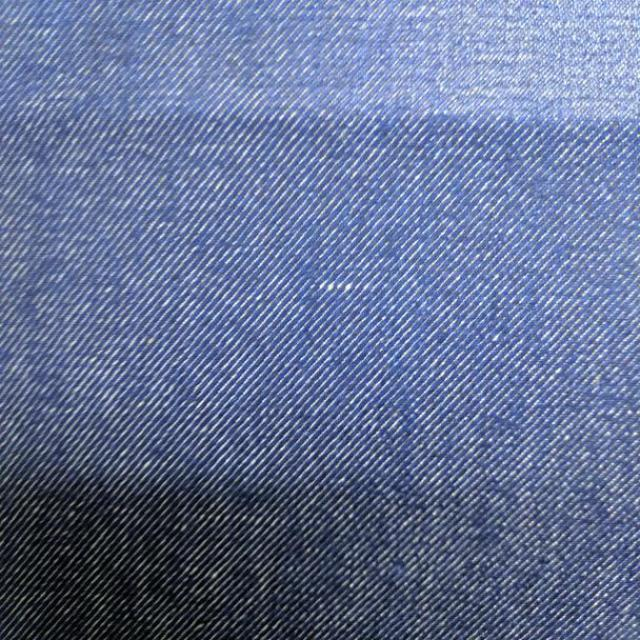Knot: (311, 280, 369, 293)
